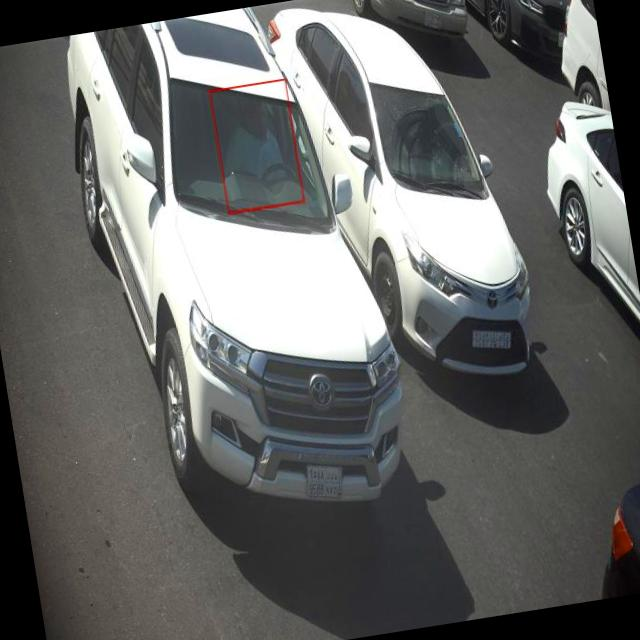person_without_seatbelt: (209, 86, 309, 200)
